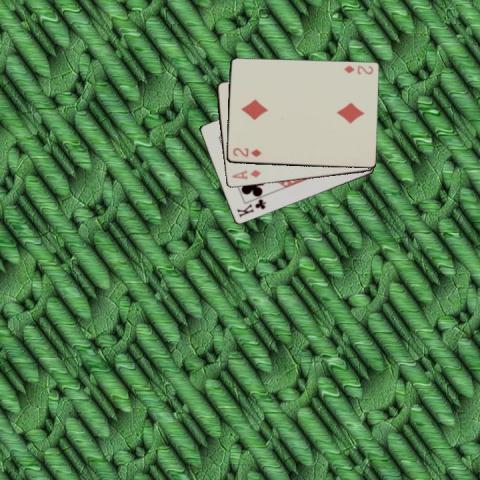2d: (341, 63, 374, 76), (230, 146, 263, 158)
Ad: (229, 167, 262, 181)
Kc: (234, 197, 267, 218)
